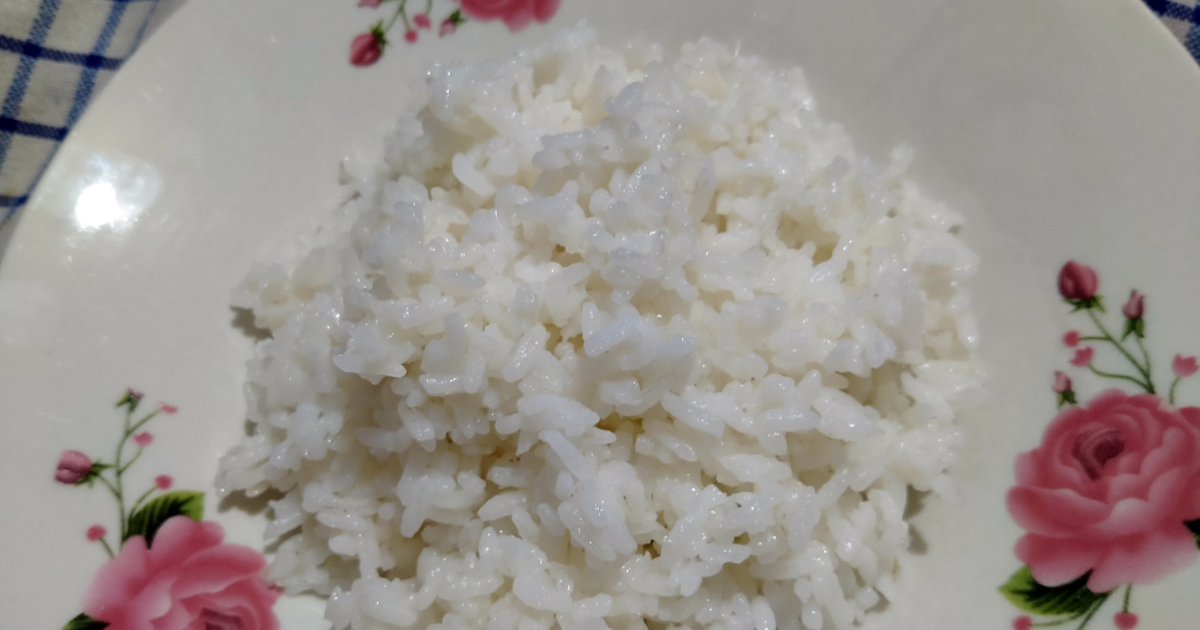Nasi Putih: (54, 25, 1019, 630)
